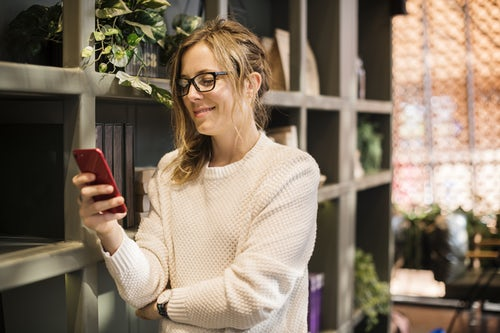phone: (72, 149, 128, 214)
